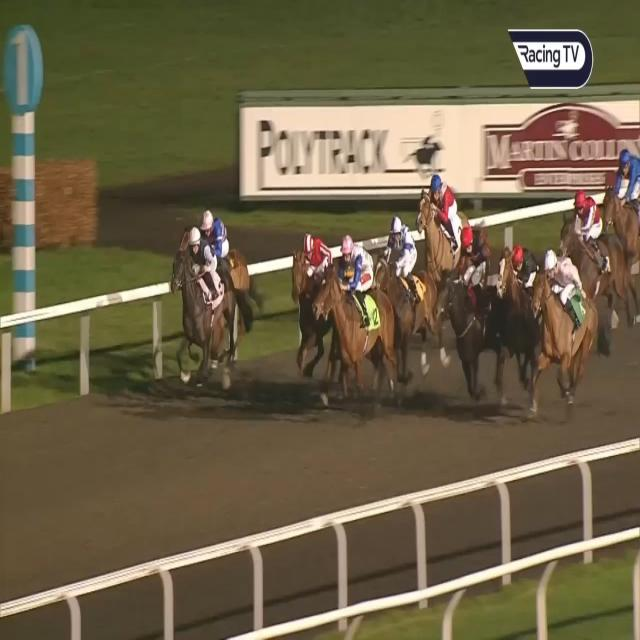horses-racing: (370, 218, 444, 387), (170, 231, 247, 379), (535, 248, 599, 416), (323, 238, 393, 390), (447, 226, 505, 401), (193, 209, 256, 326), (285, 228, 344, 351), (558, 193, 624, 295), (414, 166, 472, 273), (496, 245, 546, 358), (606, 148, 640, 288)
